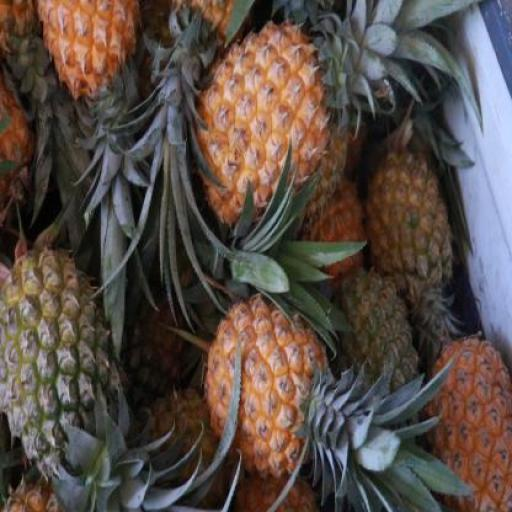------------------------------: (0, 246, 124, 476), (366, 146, 452, 318)
Pineapple - v8 v1: (196, 27, 344, 222), (198, 289, 320, 473), (428, 330, 511, 511)
